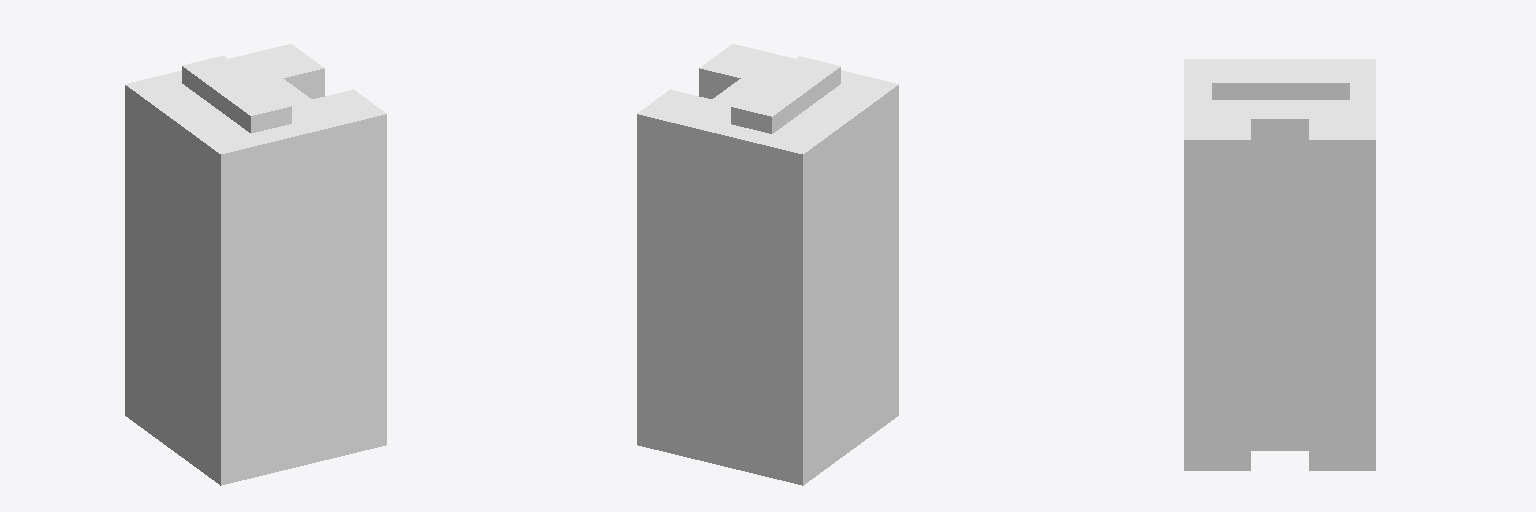
File: highrise_9.obj
3 renders of one model, left to right at view 1: azimuth 30°, elevation 25°; view 2: azimuth 150°, elevation 25°; view 3: azimuth 270°, elevation 25°, orthographic.
Parts seen in each view (by area): view 1: Mesh1 Model; view 2: Mesh1 Model; view 3: Mesh1 Model.
Part boxes in pixels (bbox=[...]): Mesh1 Model: bbox=[125, 44, 386, 485]; Mesh1 Model: bbox=[637, 44, 898, 485]; Mesh1 Model: bbox=[1184, 59, 1375, 470].
Size of the model in its own units: 20 by 40 by 20.